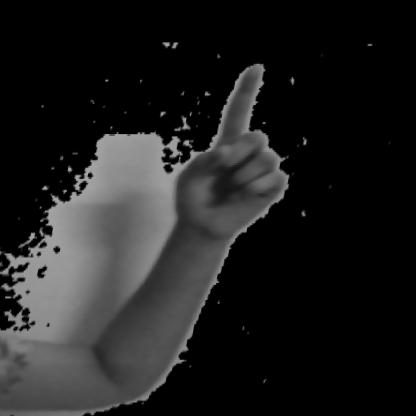one: (117, 63, 334, 262)
